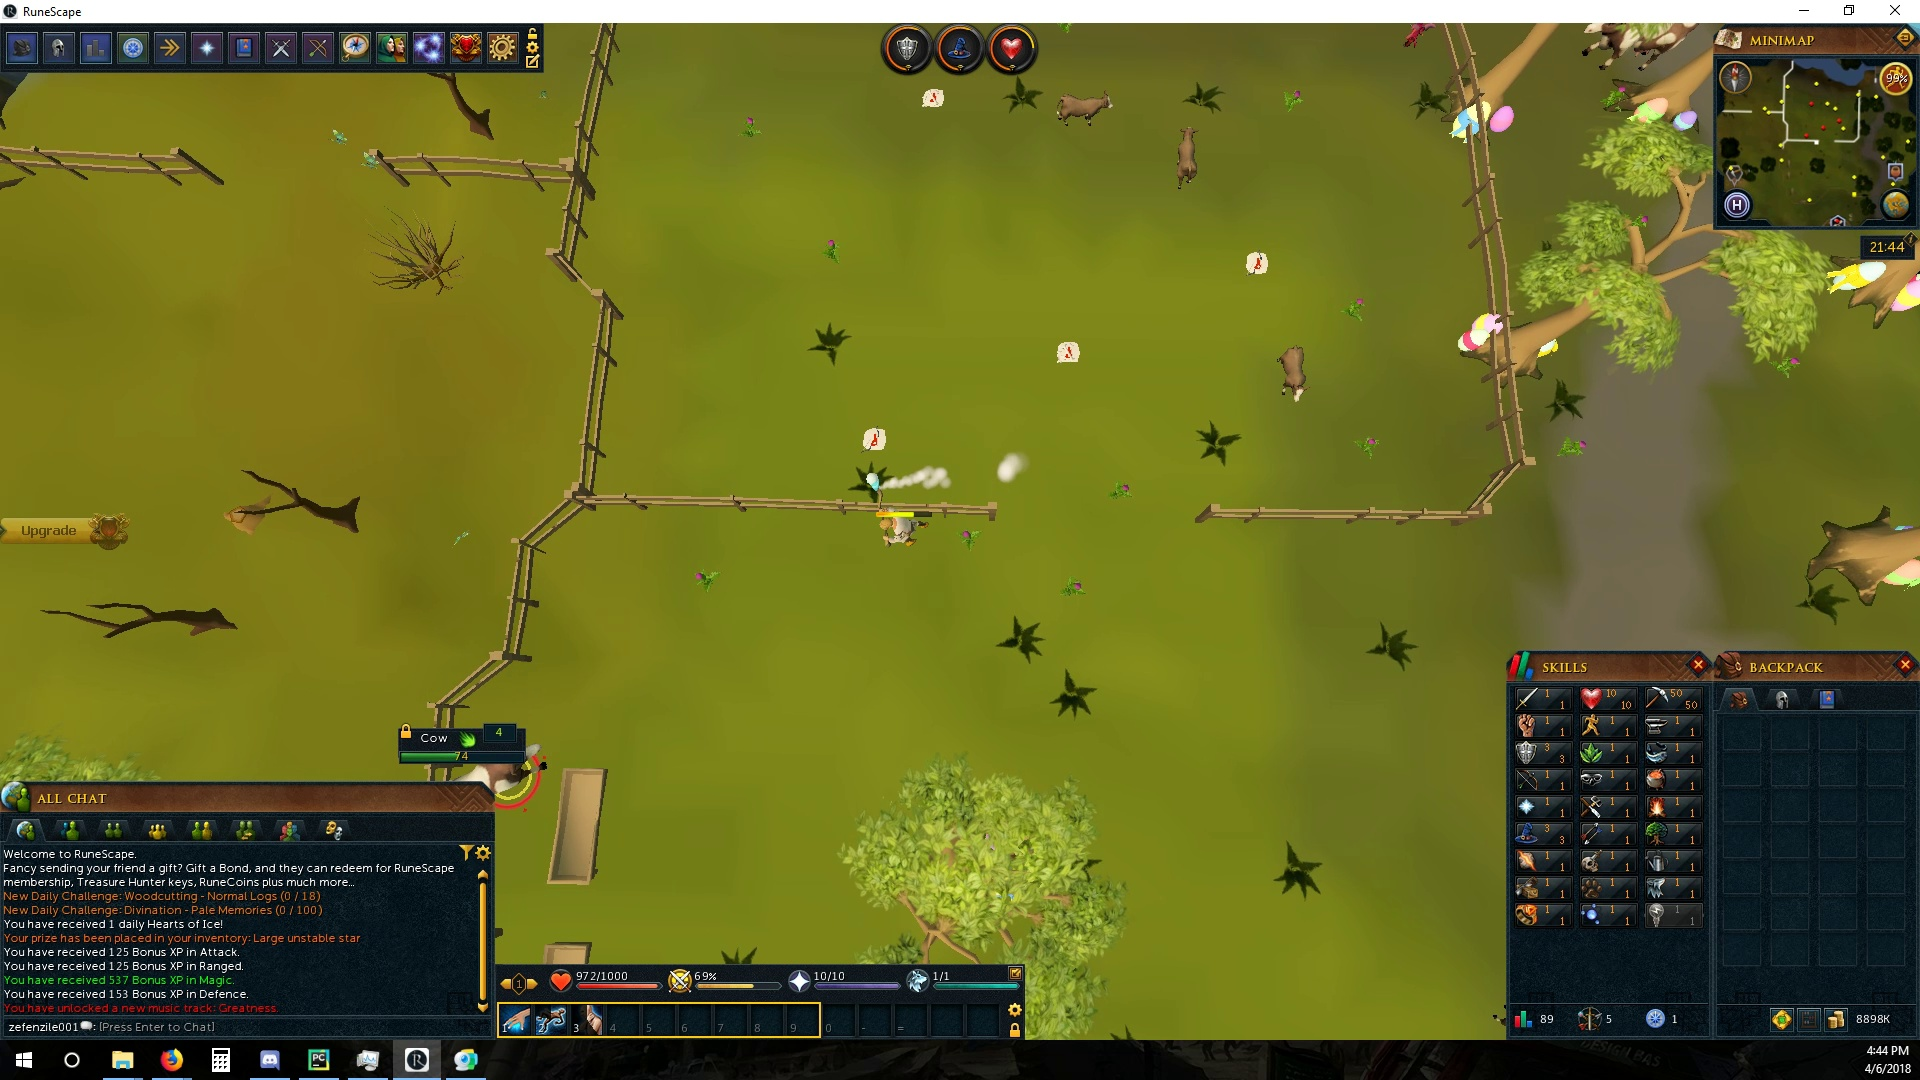calf: (1044, 92, 1117, 133), (1171, 123, 1203, 193), (1273, 345, 1311, 400)
cow: (1577, 22, 1702, 75)
cow_drop: (858, 425, 890, 455), (918, 84, 948, 111), (1242, 249, 1271, 276), (1054, 339, 1080, 365)
